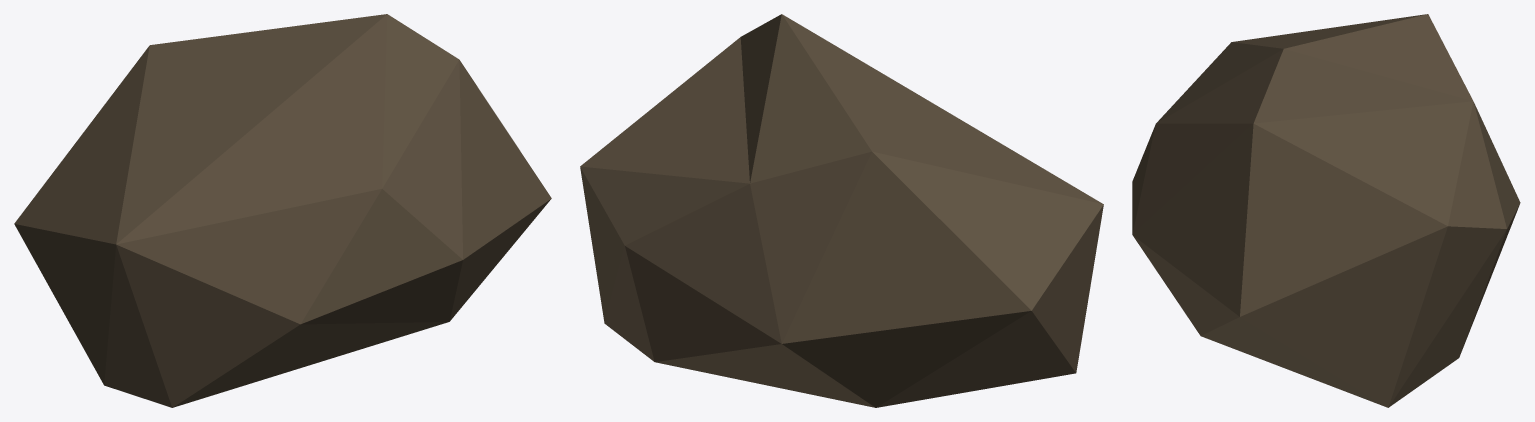
Rendered from 3DMODELS_Enviro_ForestLevel_Rock1.fbx.
3 renders of one model, left to right at view 1: azimuth 30°, elevation 25°; view 2: azimuth 150°, elevation 25°; view 3: azimuth 270°, elevation 25°, orthographic.
Parts seen in each view (by area): view 1: pPlatonic1; view 2: pPlatonic1; view 3: pPlatonic1.
Part boxes in pixels (box(x1,y1,x2,y2)): pPlatonic1: box(14, 14, 551, 407); pPlatonic1: box(580, 14, 1103, 407); pPlatonic1: box(1132, 14, 1520, 407).
Size of the model in its own units: 2.36 by 1.61 by 1.77.
